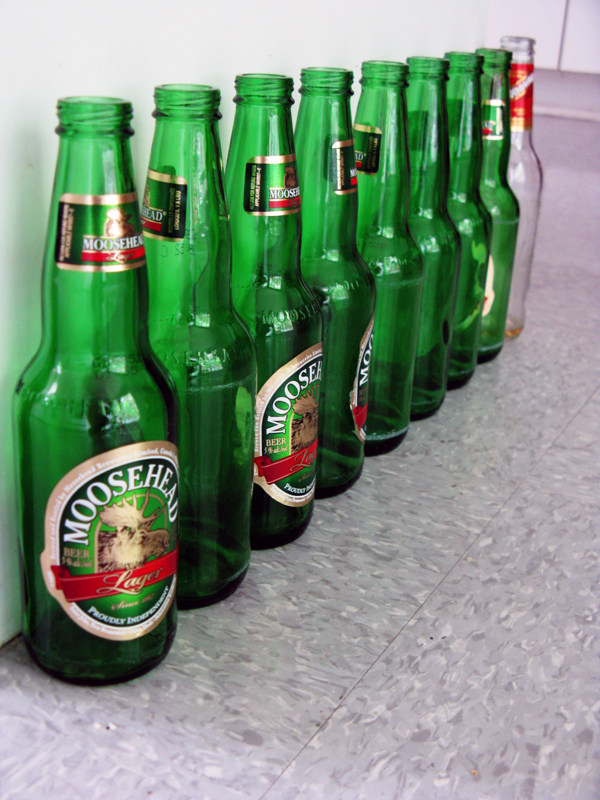bottle: (16, 92, 183, 693), (137, 81, 257, 617), (223, 71, 330, 548), (298, 65, 381, 491)
